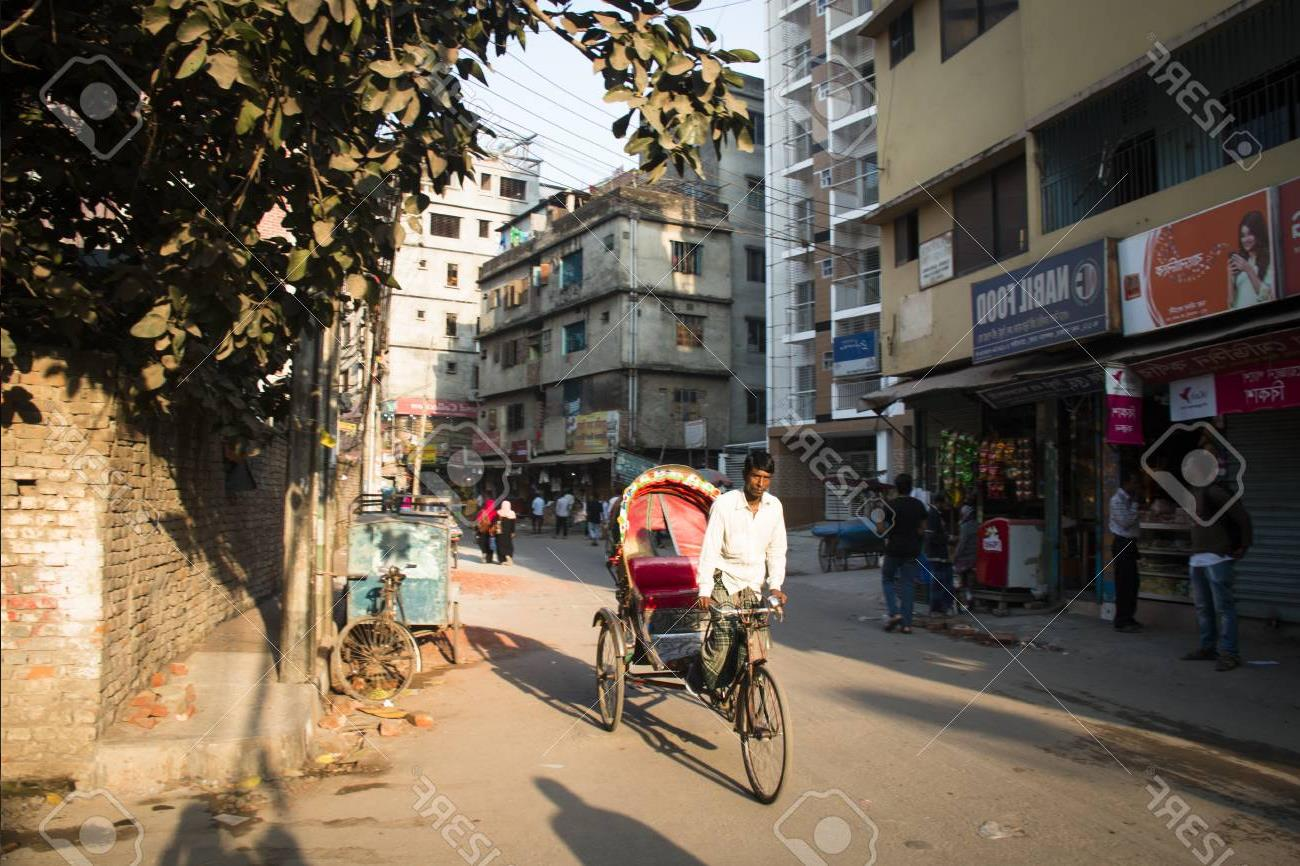Rickshaw: (585, 430, 808, 776)
